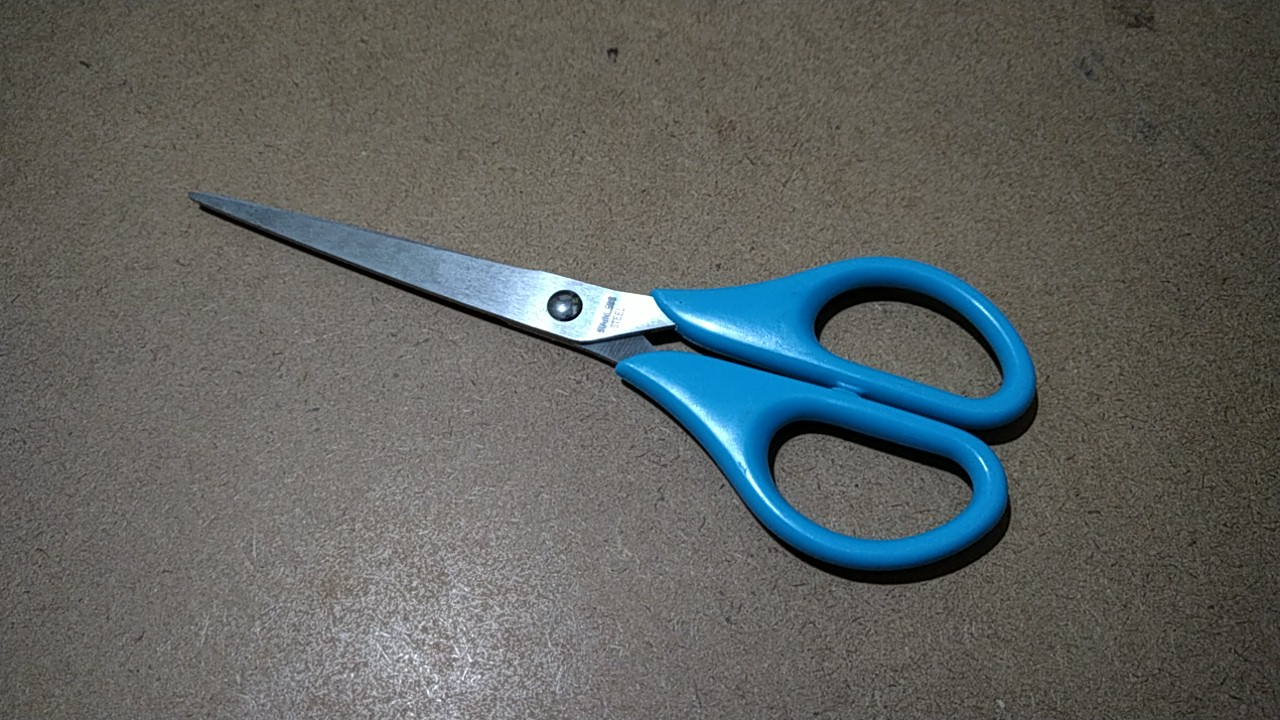scissor: (178, 181, 1057, 596)
